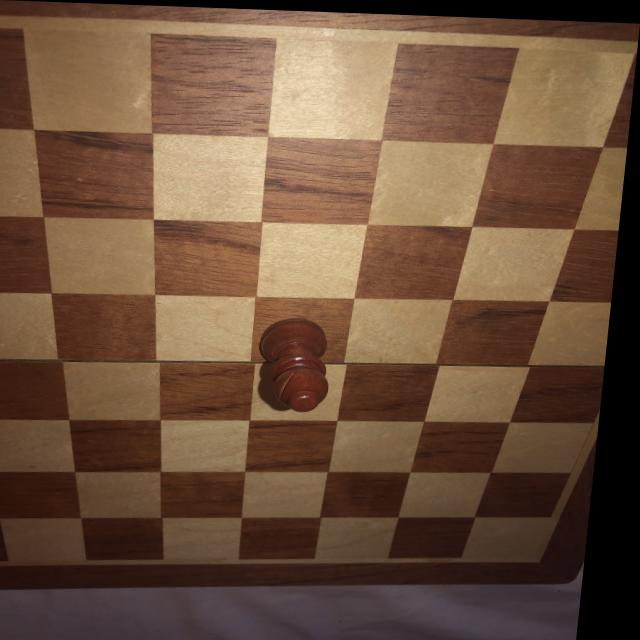black_bishop: (261, 315, 342, 413)
